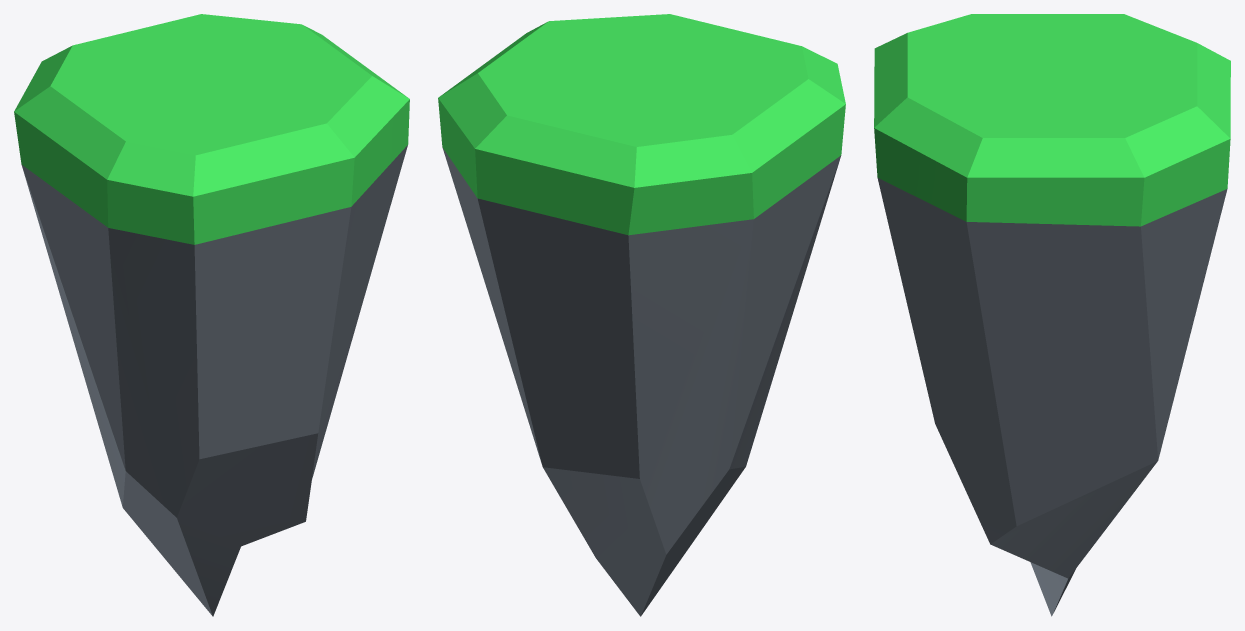
The model's file is testmodelsisland_Island_004_002.fbx.
3 views of the same model, side by side, from view 1: azimuth 30°, elevation 25°; view 2: azimuth 150°, elevation 25°; view 3: azimuth 270°, elevation 25° (orthographic).
Visible parts, largest first — view 1: island_Island_004.002; view 2: island_Island_004.002; view 3: island_Island_004.002.
Part boxes in pixels (x1,y1,x2,y2): island_Island_004.002: (14,14,409,616); island_Island_004.002: (438,14,845,616); island_Island_004.002: (874,14,1230,616).
Size of the model in its own units: 361 by 597 by 357.
